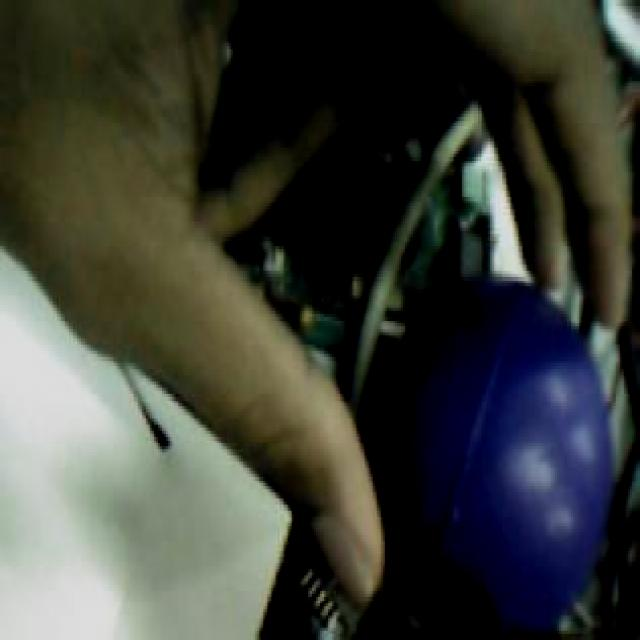BallPurple: (365, 273, 611, 640)
